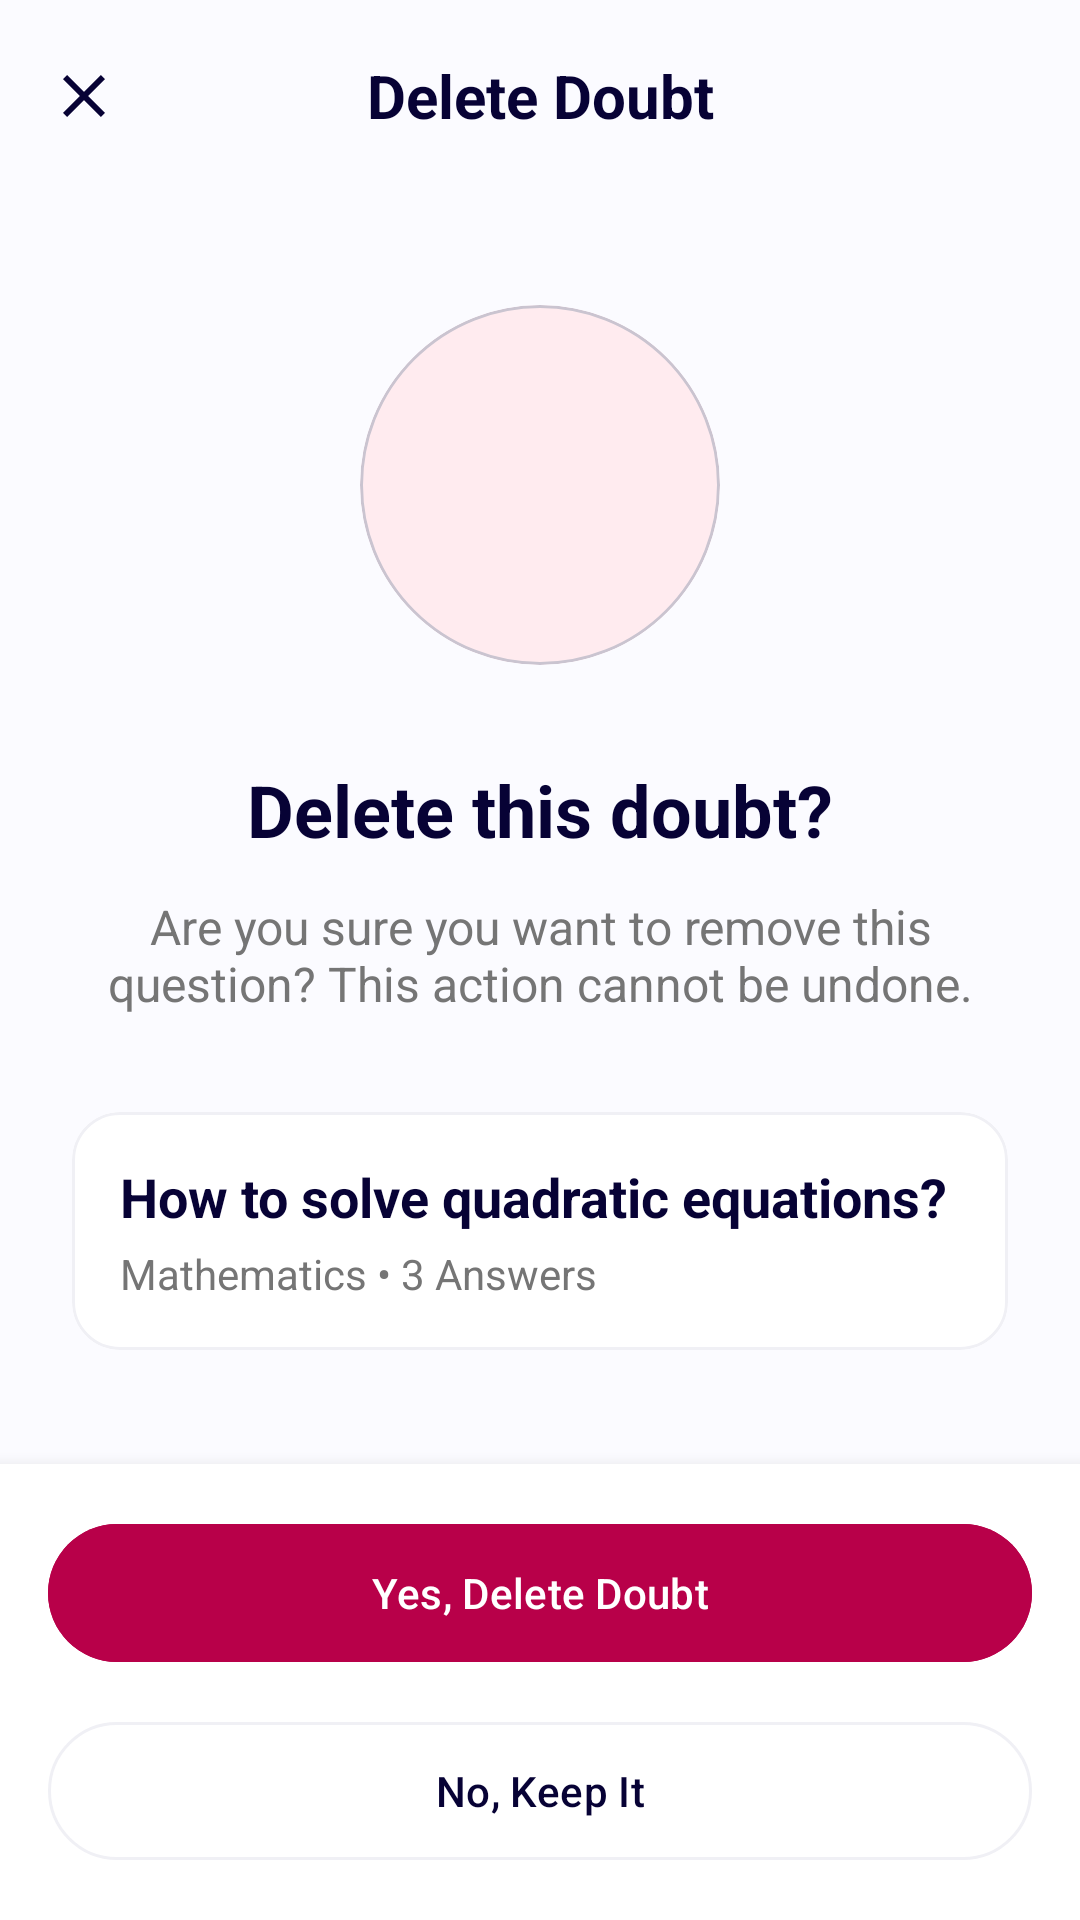

Icons on this 1080 x 1920 Android screen, each with its box as {"left": x1, "top": y1, "right": x2, "bottom": y2}:
close: {"left": 63, "top": 75, "right": 105, "bottom": 117}
